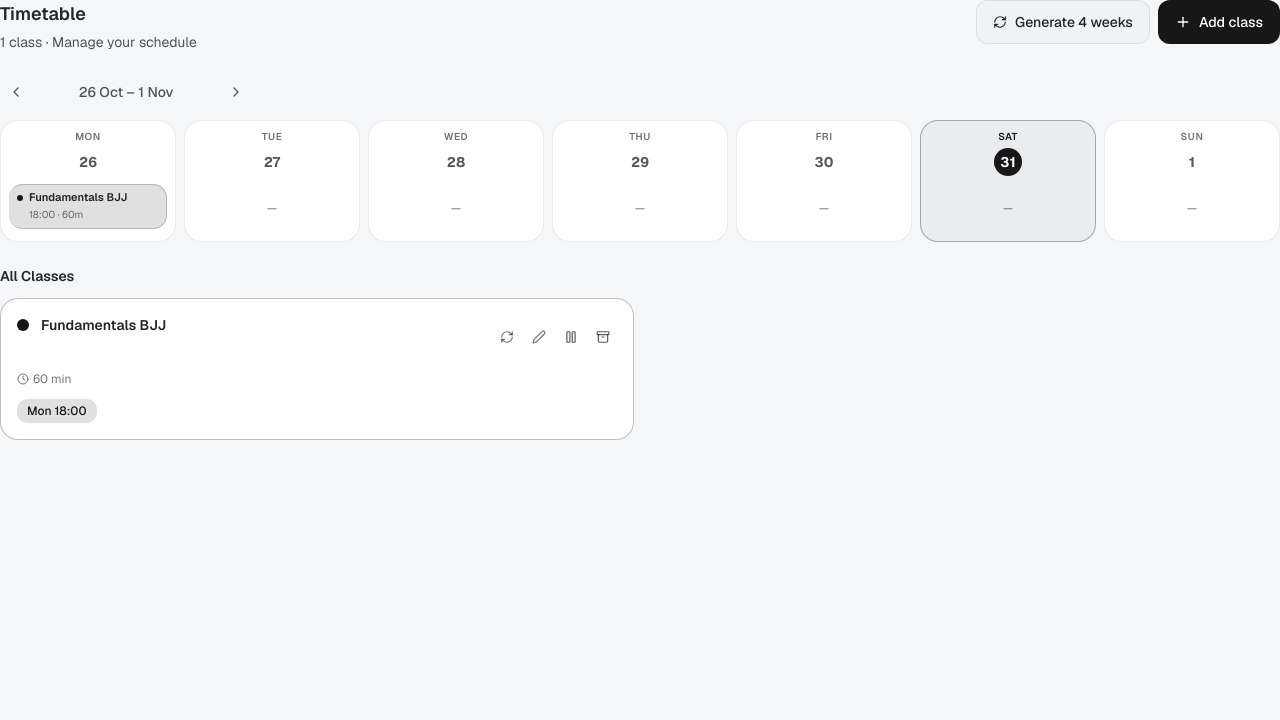
Test: Pause, Resume and Restore › Pause asks first, sends isActive false and moves the class into Paused
Click the button named "Pause Fundamentals BJJ" at coordinates (571, 336), box [557,320,585,352]
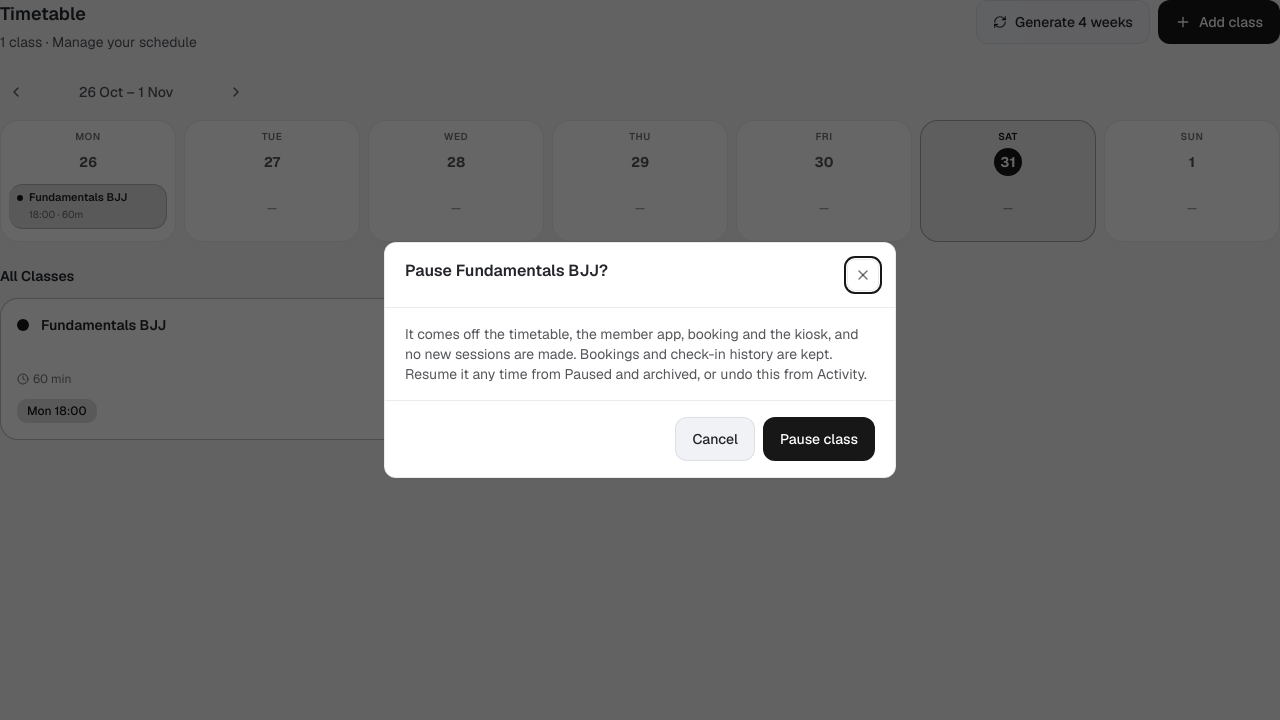
Result: the text "Bookings and check-in history are kept" is shown at [405,325,867,383]
Click the button "Pause class" at coordinates (819, 439), box [763,417,875,461]
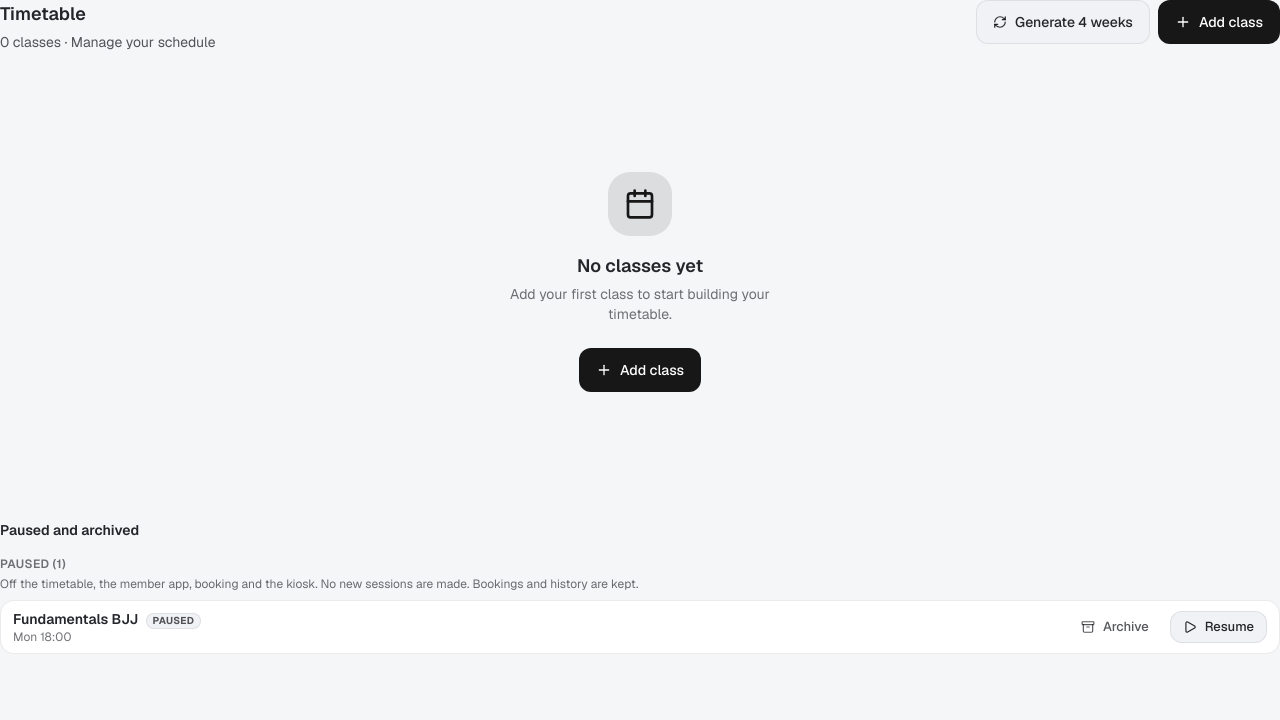
Result: the button with aria-label "Resume Fundamentals BJJ" is shown at [1170,611,1267,643]
Result: the heading "Pause Fundamentals BJJ" is gone
